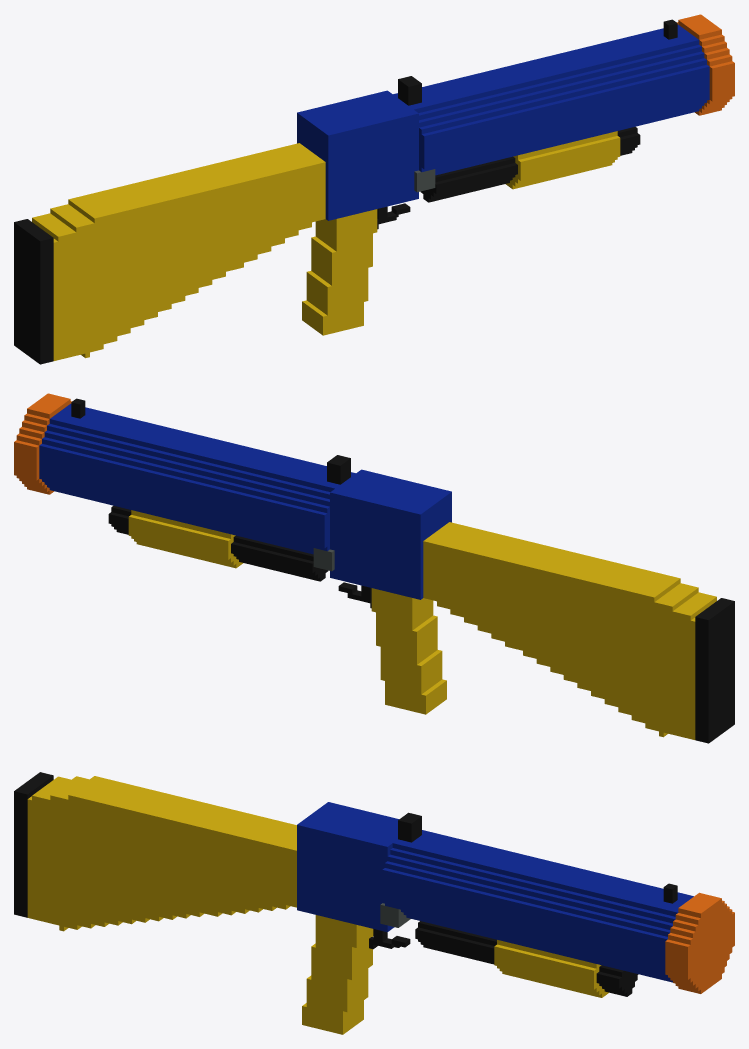
Rendered from air_launcher.glb.
3 views of the same model, one above another, from view 1: azimuth 30°, elevation 25°; view 2: azimuth 150°, elevation 25°; view 3: azimuth 330°, elevation 25° (orthographic).
Parts seen in each view (by area): view 1: air_launcher:compound; view 2: air_launcher:compound; view 3: air_launcher:compound.
Part boxes in pixels (x1=…): air_launcher:compound: x1=14, y1=14, x2=734, y2=364; air_launcher:compound: x1=14, y1=393, x2=734, y2=743; air_launcher:compound: x1=14, y1=772, x2=734, y2=1034.
Bounding box in the file's own units: 0.604 × 0.188 × 0.072.
